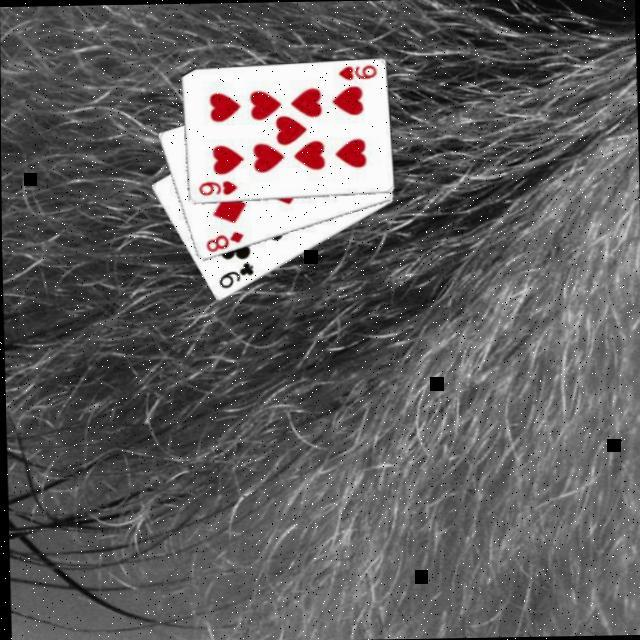8D: (202, 228, 246, 256)
9C: (214, 259, 256, 292)
9H: (335, 62, 379, 84), (195, 179, 239, 200)
